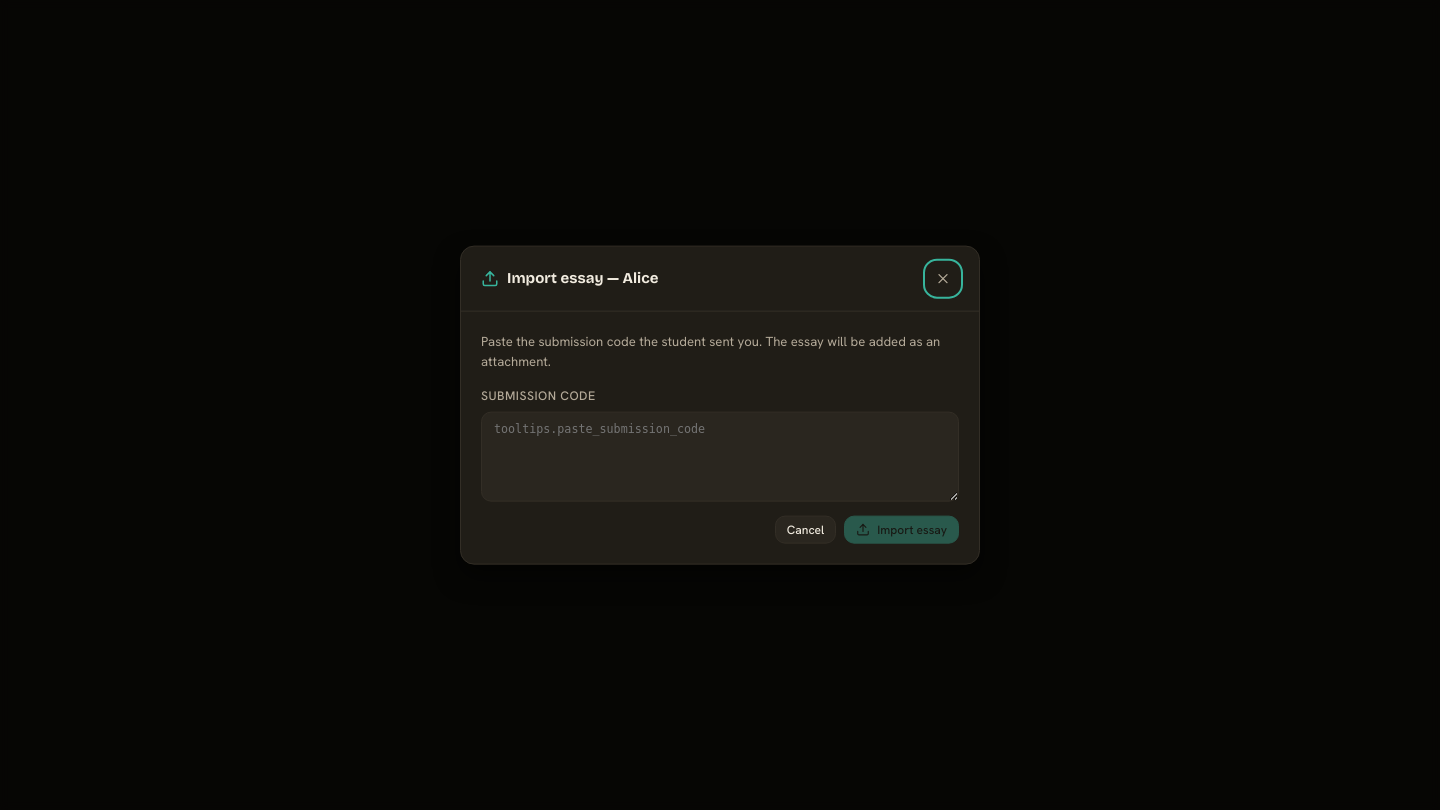
Scenario: EssayImportModal › shows success state after valid import
Type "valid-code" into the text box with placeholder "tooltips.paste_submission_code" at (720, 456), box x1=481 y1=411 x2=959 y2=501
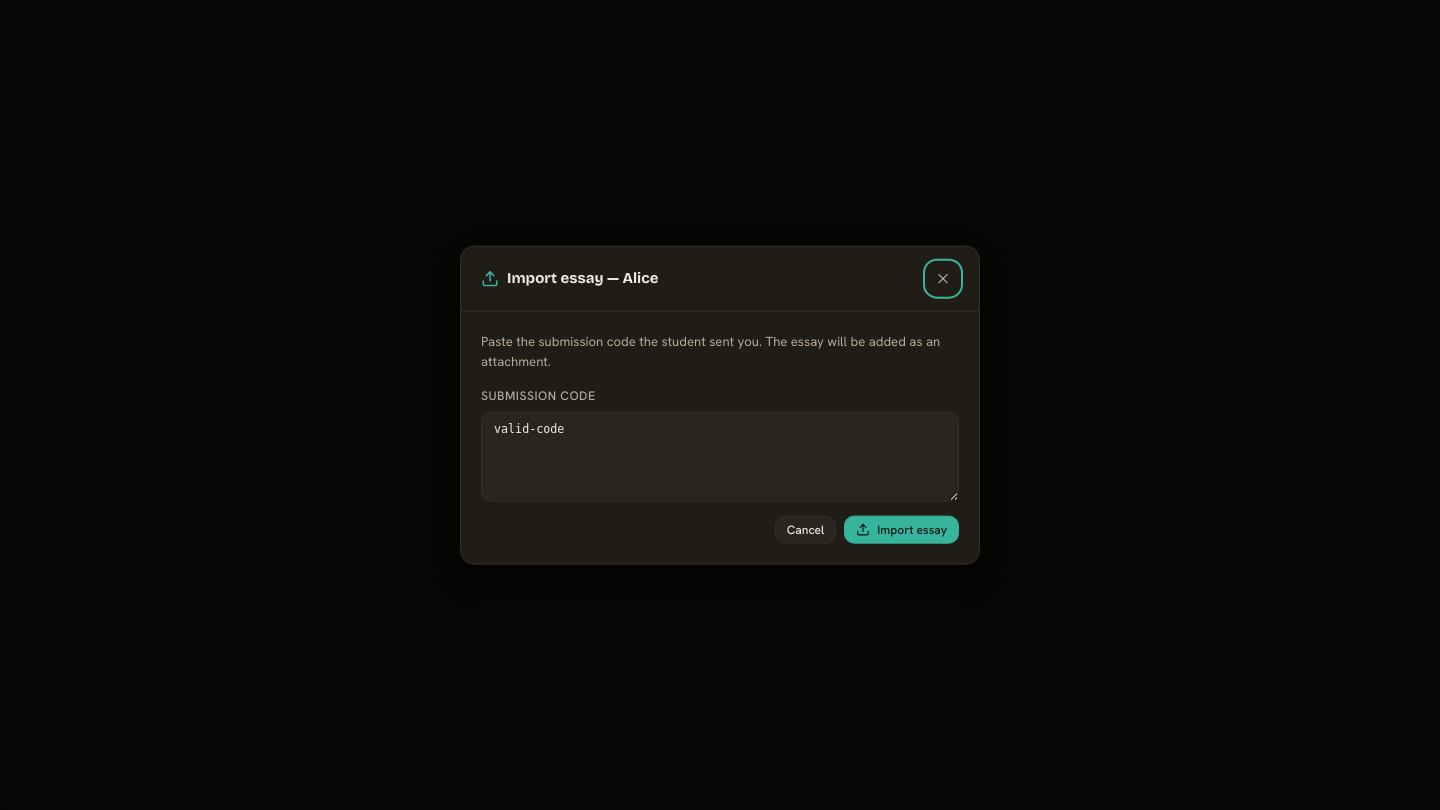
Click the button "Import essay" at (902, 529), box x1=844 y1=515 x2=959 y2=543
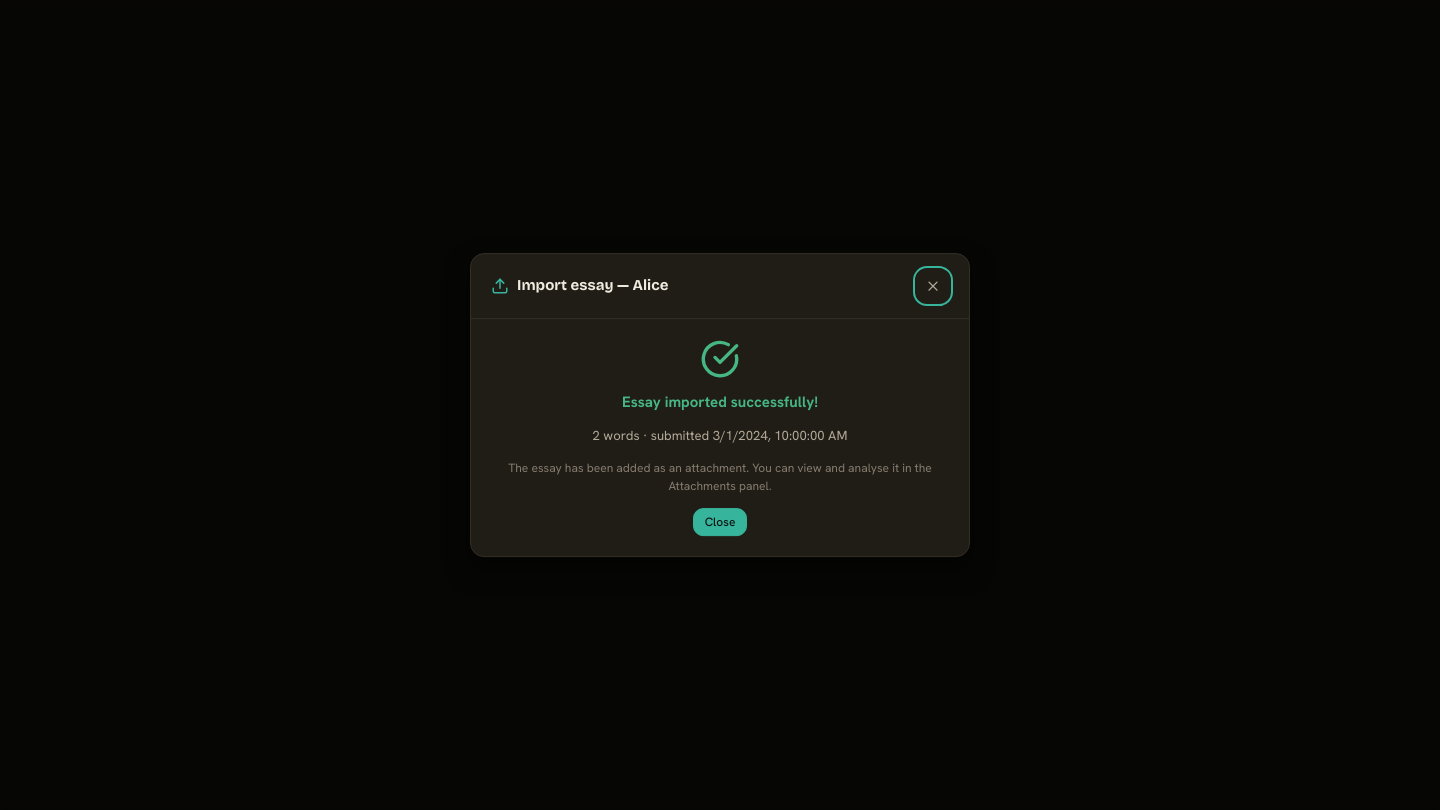
Expected: the text "Essay imported successfully!" is shown, x1=622 y1=391 x2=818 y2=414
Expected: the text "2 words · submitted 3/1/2024, 10:00:00 AM" is shown, x1=593 y1=426 x2=847 y2=447
